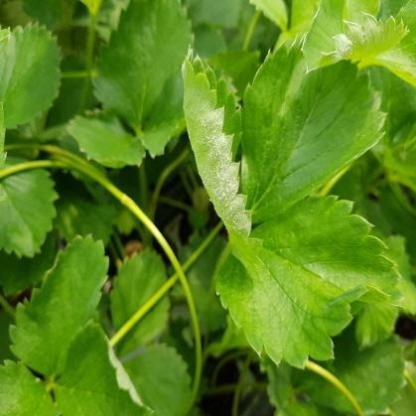Strawberry_Powdery_Mildew_Leaf: (181, 46, 266, 270), (52, 316, 156, 416), (299, 0, 415, 89)
